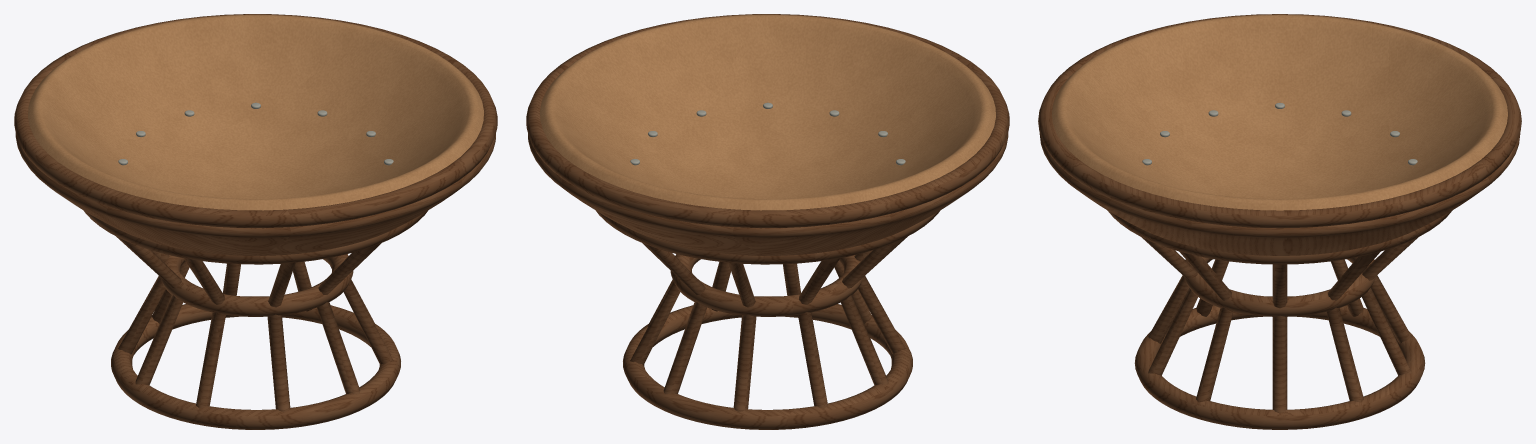
The model's file is papasan-chair.glb.
The picture shows the model from 3 angles, left to right: view 1: azimuth 30°, elevation 25°; view 2: azimuth 150°, elevation 25°; view 3: azimuth 270°, elevation 25°; orthographic projection.
Parts seen in each view (by area): view 1: Canvas | deep padded bowl, Rattan | broad rolled rim, Rattan | bowl seat shell, Rattan | circular support ring, Rattan | circular support ring.001, Rattan | circular support ring.002, Rattan | flared pedestal rib.008, Rattan | flared pedestal rib.005, Rattan | flared pedestal rib.006, Rattan | flared pedestal rib.007, Rattan | flared pedestal rib.004, Rattan | flared pedestal rib.009 (+1 smaller); view 2: Canvas | deep padded bowl, Rattan | broad rolled rim, Rattan | bowl seat shell, Rattan | circular support ring, Rattan | circular support ring.001, Rattan | circular support ring.002, Rattan | flared pedestal rib.002, Rattan | flared pedestal rib.005, Rattan | flared pedestal rib.004, Rattan | flared pedestal rib.003, Rattan | flared pedestal rib.006, Rattan | flared pedestal rib.001 (+1 smaller); view 3: Canvas | deep padded bowl, Rattan | broad rolled rim, Rattan | bowl seat shell, Rattan | circular support ring, Rattan | circular support ring.001, Rattan | circular support ring.002, Rattan | flared pedestal rib, Rattan | flared pedestal rib.001, Rattan | flared pedestal rib.009, Rattan | flared pedestal rib.002, Rattan | flared pedestal rib.008, Rattan | flared pedestal rib.003 (+1 smaller).
Part boxes in pixels (x1=…): Canvas | deep padded bowl: x1=28, y1=14, x2=483, y2=210; Rattan | broad rolled rim: x1=14, y1=14, x2=497, y2=228; Rattan | bowl seat shell: x1=15, y1=133, x2=495, y2=255; Rattan | circular support ring: x1=111, y1=296, x2=400, y2=429; Rattan | circular support ring.001: x1=159, y1=254, x2=353, y2=316; Rattan | circular support ring.002: x1=84, y1=211, x2=427, y2=264; Rattan | flared pedestal rib.008: x1=317, y1=243, x2=380, y2=394; Rattan | flared pedestal rib.005: x1=116, y1=236, x2=182, y2=384; Rattan | flared pedestal rib.006: x1=184, y1=258, x2=225, y2=408; Rattan | flared pedestal rib.007: x1=267, y1=262, x2=295, y2=412; Rattan | flared pedestal rib.004: x1=118, y1=250, x2=169, y2=354; Rattan | flared pedestal rib.009: x1=343, y1=243, x2=393, y2=365; Canvas | deep padded bowl: x1=540, y1=14, x2=995, y2=210; Rattan | broad rolled rim: x1=526, y1=14, x2=1009, y2=228; Rattan | bowl seat shell: x1=528, y1=133, x2=1008, y2=255; Rattan | circular support ring: x1=623, y1=296, x2=912, y2=429; Rattan | circular support ring.001: x1=670, y1=254, x2=864, y2=316; Rattan | circular support ring.002: x1=596, y1=211, x2=939, y2=264; Rattan | flared pedestal rib.002: x1=643, y1=243, x2=706, y2=394; Rattan | flared pedestal rib.005: x1=841, y1=236, x2=907, y2=384; Rattan | flared pedestal rib.004: x1=798, y1=258, x2=839, y2=408; Rattan | flared pedestal rib.003: x1=728, y1=262, x2=756, y2=412; Rattan | flared pedestal rib.006: x1=854, y1=250, x2=905, y2=354; Rattan | flared pedestal rib.001: x1=630, y1=243, x2=680, y2=365; Canvas | deep padded bowl: x1=1052, y1=14, x2=1507, y2=210; Rattan | broad rolled rim: x1=1038, y1=14, x2=1521, y2=228; Rattan | bowl seat shell: x1=1039, y1=133, x2=1520, y2=255; Rattan | circular support ring: x1=1134, y1=296, x2=1425, y2=429; Rattan | circular support ring.001: x1=1183, y1=257, x2=1376, y2=316; Rattan | circular support ring.002: x1=1107, y1=210, x2=1452, y2=264; Rattan | flared pedestal rib: x1=1272, y1=264, x2=1287, y2=413; Rattan | flared pedestal rib.001: x1=1326, y1=251, x2=1380, y2=402; Rattan | flared pedestal rib.009: x1=1179, y1=251, x2=1233, y2=402; Rattan | flared pedestal rib.002: x1=1362, y1=237, x2=1418, y2=375; Rattan | flared pedestal rib.008: x1=1141, y1=237, x2=1197, y2=375; Rattan | flared pedestal rib.003: x1=1371, y1=275, x2=1411, y2=343.
Bounding box in the file's own units: 1.18 × 0.7111 × 1.18.
Materials: 3 (2 with a texture image).
